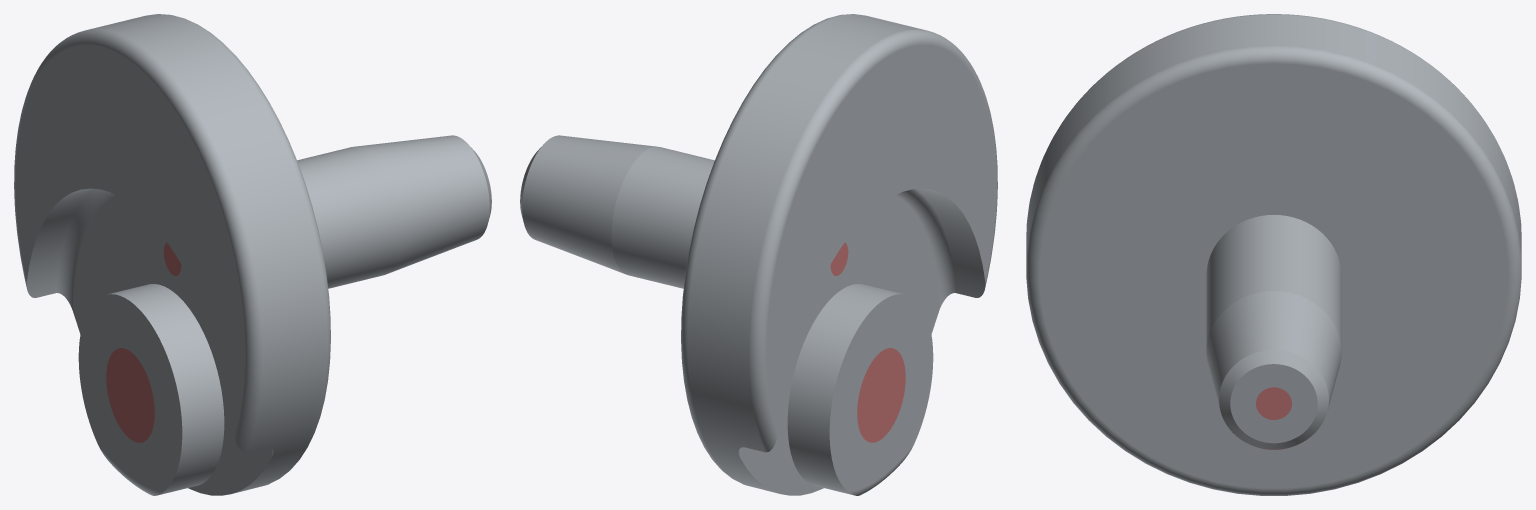
Rendered from step_04.glb.
The picture shows the model from 3 angles, left to right: view 1: azimuth 30°, elevation 25°; view 2: azimuth 150°, elevation 25°; view 3: azimuth 270°, elevation 25°; orthographic projection. The views are drawn at different scales.
Visible parts, largest first — view 1: part__crank, removed__crank; view 2: part__crank, removed__crank; view 3: part__crank, removed__crank.
Boxes of the visible parts, x1,y1,x2,y2 form: part__crank: [14, 14, 491, 495]; removed__crank: [106, 242, 181, 442]; part__crank: [520, 14, 997, 495]; removed__crank: [830, 242, 905, 442]; part__crank: [1026, 14, 1521, 495]; removed__crank: [1256, 387, 1291, 449].
Size of the model in its own units: 44.5 by 55 by 54.99.
